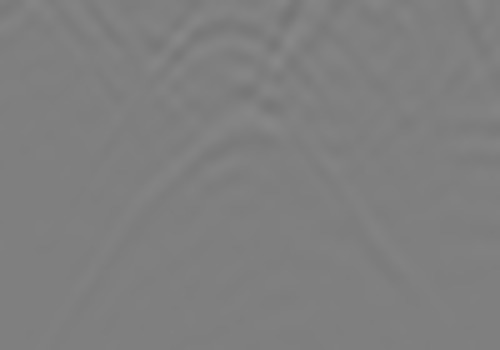hyperbola: (77, 110, 417, 310)
